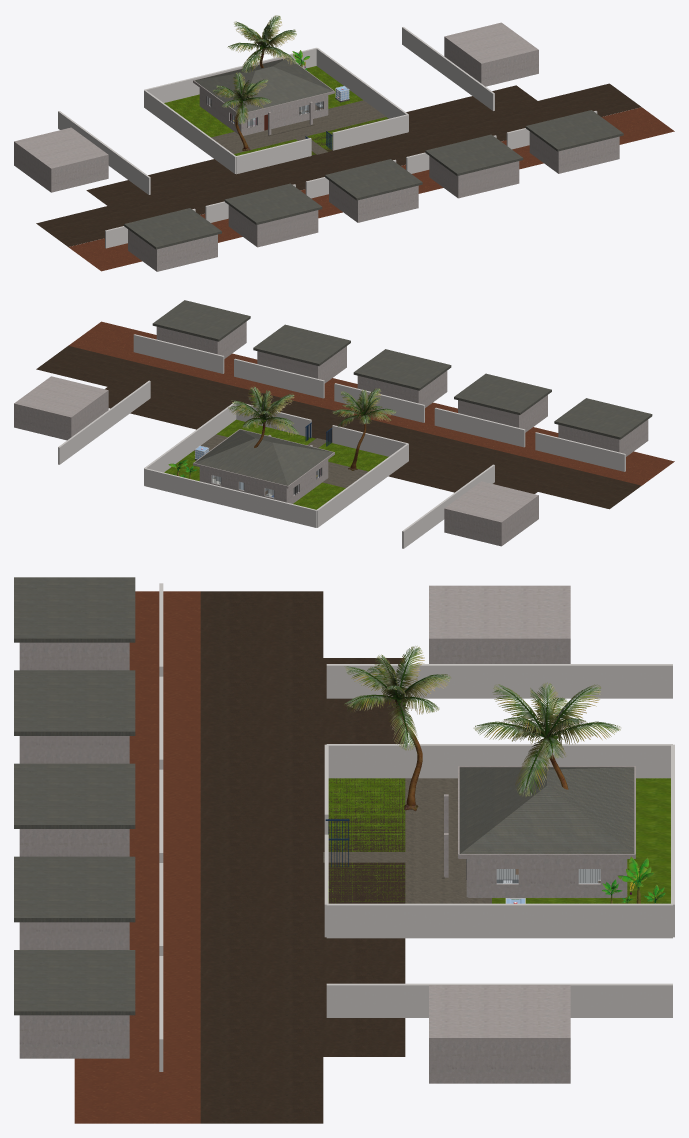
File: home.v3.glb
3 renders of one model, top to bottom at view 1: azimuth 30°, elevation 25°; view 2: azimuth 150°, elevation 25°; view 3: azimuth 270°, elevation 25°, orthographic. The views are drawn at different scales.
Parts seen in each view (by area): view 1: neighbours, street, compound_wall, shop_street, verge, roof, plot_grass, shop_pavement, Bark_Material #322_0, wall, palm, wall.002 (+1 smaller); view 2: neighbours, street, verge, compound_wall, roof, shop_street, plot_grass, Bark_Material #322_0, palm, wall.001, shop_pavement, wall.002 (+1 smaller); view 3: neighbours, street, verge, compound_wall, shop_street, roof, plot_grass, Bark_Material #322_0, shop_pavement, wall.003, palm, fascia (+2 smaller).
Part boxes in pixels (box(x1,y1,x2,y2)): neighbours: box(14, 22, 623, 271); street: box(36, 83, 641, 246); compound_wall: box(144, 47, 408, 174); shop_street: box(86, 85, 537, 205); verge: box(68, 107, 674, 271); roof: box(194, 58, 333, 113); plot_grass: box(164, 66, 388, 155); shop_pavement: box(211, 100, 385, 153); Bark_Material #322_0: box(227, 15, 296, 72); wall: box(241, 95, 327, 135); palm: box(213, 72, 271, 150); wall.002: box(199, 88, 241, 134); neighbours: box(14, 300, 652, 548); street: box(36, 345, 641, 509); verge: box(68, 321, 674, 485); compound_wall: box(144, 401, 408, 527); roof: box(194, 429, 333, 485); shop_street: box(105, 387, 537, 493); plot_grass: box(164, 419, 388, 509); Bark_Material #322_0: box(228, 386, 298, 447); palm: box(332, 388, 396, 470); wall.001: box(200, 467, 286, 502); shop_pavement: box(194, 434, 368, 487); wall.002: box(286, 460, 328, 503); neighbours: box(14, 577, 672, 1083); street: box(200, 591, 323, 1123); verge: box(74, 591, 200, 1123); compound_wall: box(324, 744, 674, 938); shop_street: box(323, 658, 405, 1056); roof: box(459, 767, 634, 853); plot_grass: box(328, 778, 670, 903); Bark_Material #322_0: box(473, 682, 620, 796); shop_pavement: box(405, 778, 491, 903); wall.003: box(468, 859, 625, 897); palm: box(344, 646, 450, 810); fascia: box(458, 766, 635, 858).
Bounding box in the file's own units: 80 × 12.45 × 41.98.
Materials: 72 (24 with a texture image).
